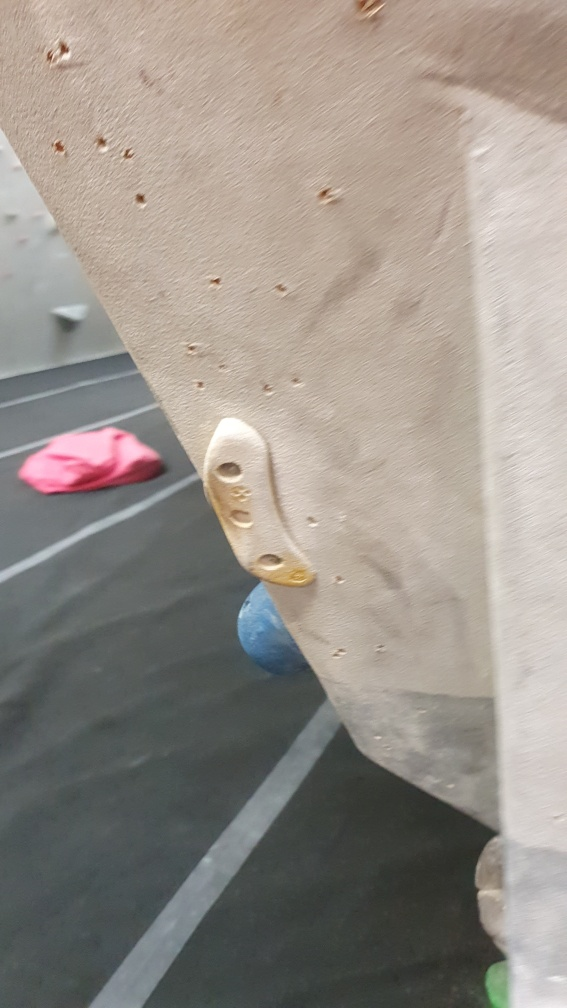Crimp: (200, 413, 321, 591)
